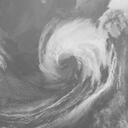cyclone: (37, 17, 113, 89)
